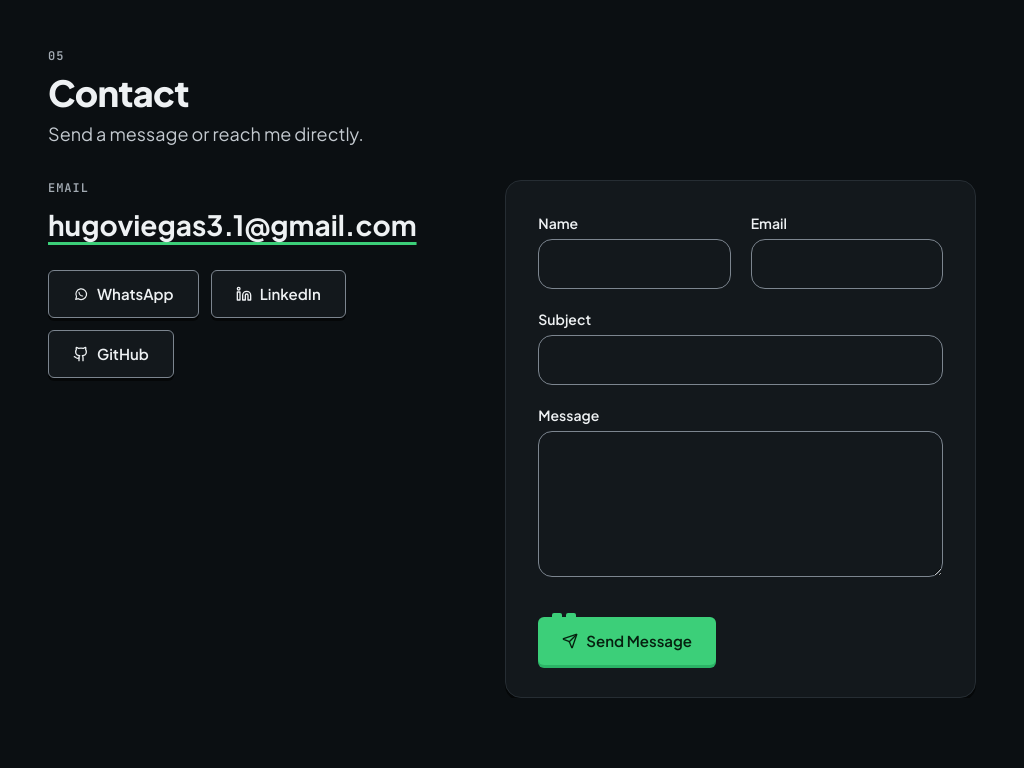
contact form accessibility › marks invalid fields, links their errors, and focuses the first one
Click the button "Send Message" at (627, 641), box [538,617,716,665]
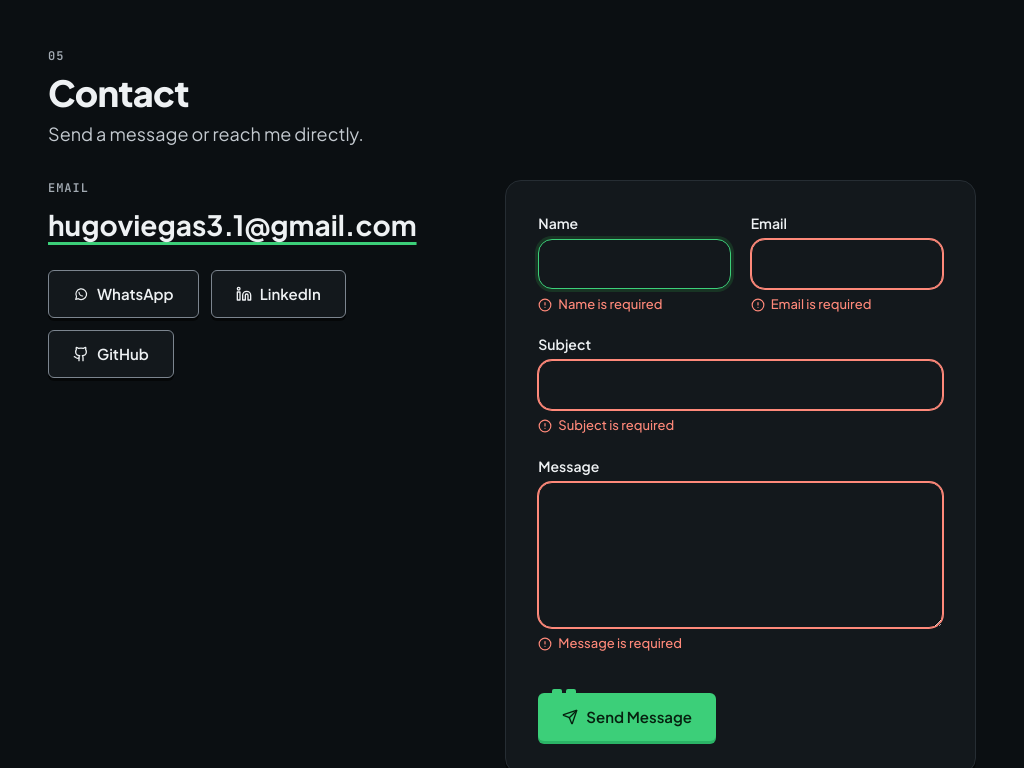
Result: the element with id "contact-name-error" shows "required" at [558,296,662,312]
